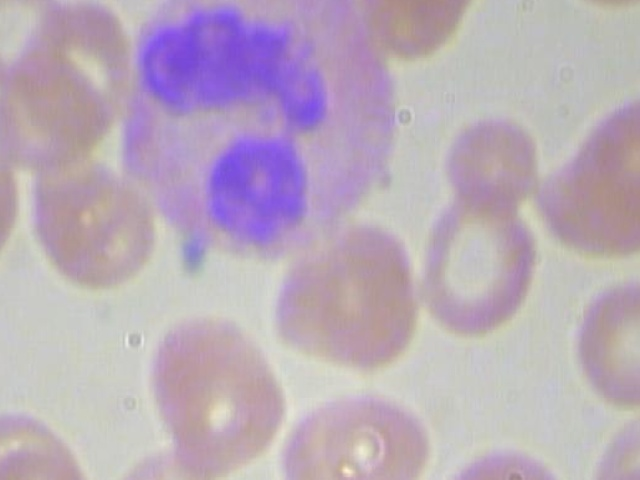RBC: (268, 218, 429, 373), (143, 320, 290, 468), (30, 146, 161, 294), (415, 190, 539, 340), (277, 378, 438, 480), (442, 106, 542, 211), (575, 266, 640, 414), (440, 440, 576, 480), (99, 445, 219, 480), (0, 126, 24, 292), (548, 0, 640, 23)
WBC: (119, 0, 408, 262)
